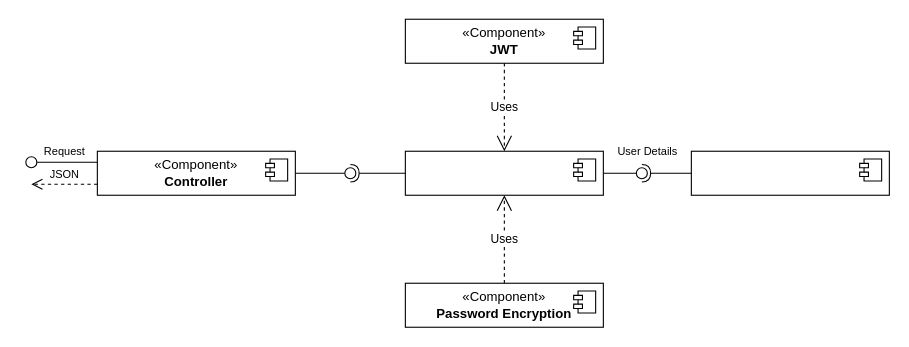
Image size: 909x347. Some labels were removed from this diagram. The shapes that lost their labels are listed below. From the top down, each one's centre as x and y in pixels, then its label:
At point (503, 172): "«Component» Service".
At point (789, 172): "«Component» User".
